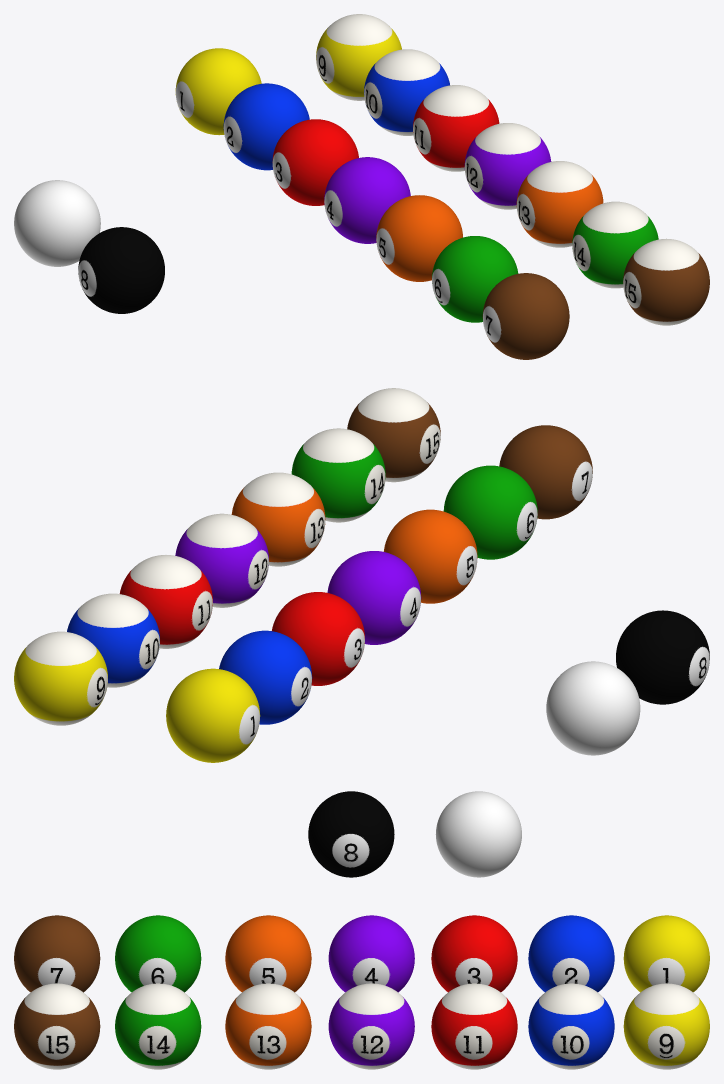
File: Balls.FBX
3 renders of one model, top to bottom at view 1: azimuth 30°, elevation 25°; view 2: azimuth 150°, elevation 25°; view 3: azimuth 270°, elevation 25°, orthographic. The views are drawn at different scales.
Parts seen in each view (by area): view 1: Brown Solid, Brown Stripe, Sphere016, 8ball, Orange Stripe, Orange Solid, Purple Solid, Purple Stripe, Red Solid, Red Stripe, Green Stripe, Green Solid (+4 smaller); view 2: 8ball, Yellow Stripe, Yellow Solid, Sphere016, Green Solid, Green Stripe, Orange Solid, Orange Stripe, Purple Solid, Purple Stripe, Brown Stripe, Brown Solid (+4 smaller); view 3: Orange Stripe, Blue Stripe, Red Stripe, Sphere016, Purple Stripe, Green Stripe, Brown Stripe, Yellow Stripe, 8ball, Red Solid, Orange Solid, Blue Solid (+4 smaller).
Boxes of the visible parts, x1,y1,x2,y2 form: Brown Solid: (482,273,569,359); Brown Stripe: (623,238,709,325); Sphere016: (78,227,164,313); 8ball: (14,180,100,266); Orange Stripe: (516,161,603,247); Orange Solid: (376,195,462,281); Purple Solid: (324,157,410,243); Purple Stripe: (464,123,551,209); Red Solid: (272,119,358,205); Red Stripe: (413,85,499,171); Green Stripe: (572,201,658,288); Green Solid: (432,236,518,322); 8ball: (546,661,640,755); Yellow Stripe: (14,631,107,725); Yellow Solid: (166,668,260,762); Sphere016: (616,610,709,704); Green Solid: (443,465,537,559); Green Stripe: (291,428,385,522); Orange Solid: (383,509,477,603); Orange Stripe: (231,472,325,566); Purple Solid: (327,551,421,644); Purple Stripe: (175,513,268,607); Brown Stripe: (347,388,440,482); Brown Solid: (499,425,592,519); Orange Stripe: (225,983,311,1069); Blue Stripe: (528,983,614,1069); Red Stripe: (431,983,517,1069); Sphere016: (308,791,394,877); Purple Stripe: (328,983,414,1069); Green Stripe: (115,983,201,1069); Brown Stripe: (14,983,100,1069); Yellow Stripe: (623,983,709,1069); 8ball: (435,791,521,877); Red Solid: (431,915,517,992); Orange Solid: (225,915,311,992); Blue Solid: (528,915,614,992).
Bounding box in the file's own units: 273 × 43.56 × 351.
16 materials, 15 textured.
